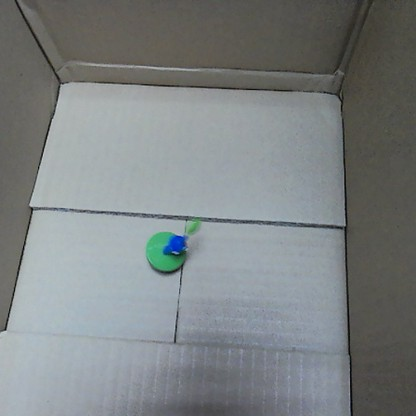leafairy: (144, 218, 200, 273)
